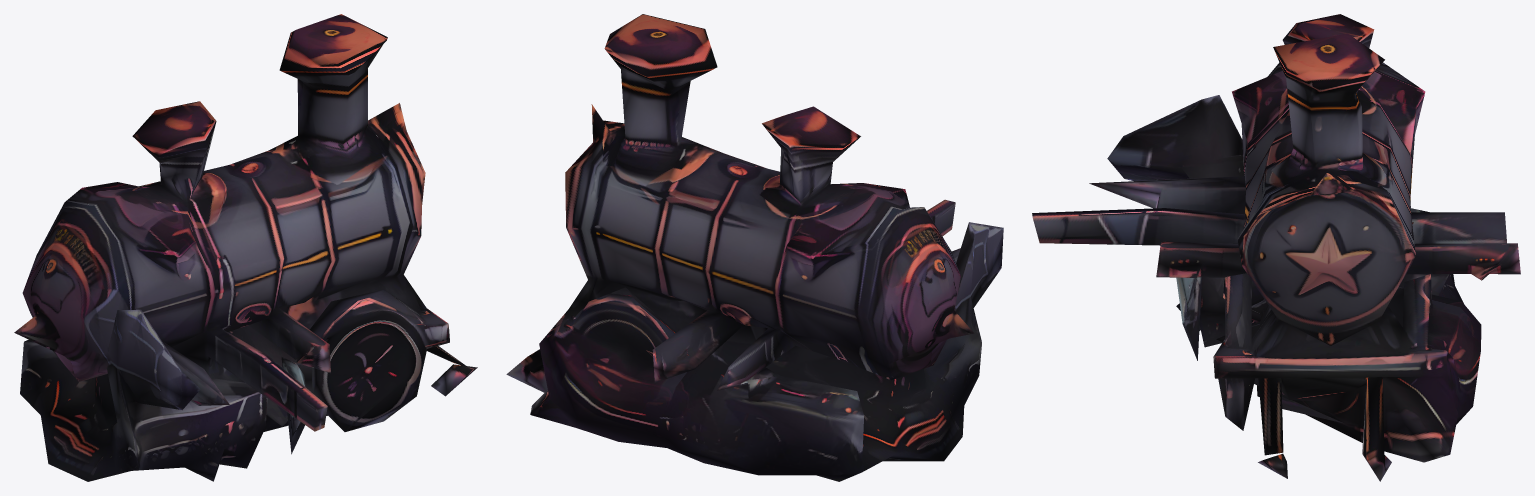
File: tren.obj
The picture shows the model from 3 angles, left to right: view 1: azimuth 30°, elevation 25°; view 2: azimuth 150°, elevation 25°; view 3: azimuth 270°, elevation 25°; orthographic projection. The views are drawn at different scales.
Parts seen in each view (by area): view 1: tripo_node_34c4e431-1ced-46d9-8e74-93e2b8335126; view 2: tripo_node_34c4e431-1ced-46d9-8e74-93e2b8335126; view 3: tripo_node_34c4e431-1ced-46d9-8e74-93e2b8335126.
Part boxes in pixels (x1,y1,x2,y2): tripo_node_34c4e431-1ced-46d9-8e74-93e2b8335126: (14,14,477,481); tripo_node_34c4e431-1ced-46d9-8e74-93e2b8335126: (506,14,1003,481); tripo_node_34c4e431-1ced-46d9-8e74-93e2b8335126: (1032,14,1520,481).
Size of the model in its own units: 1.01 by 0.7913 by 0.9261.
Materials: 1 (1 with a texture image).
